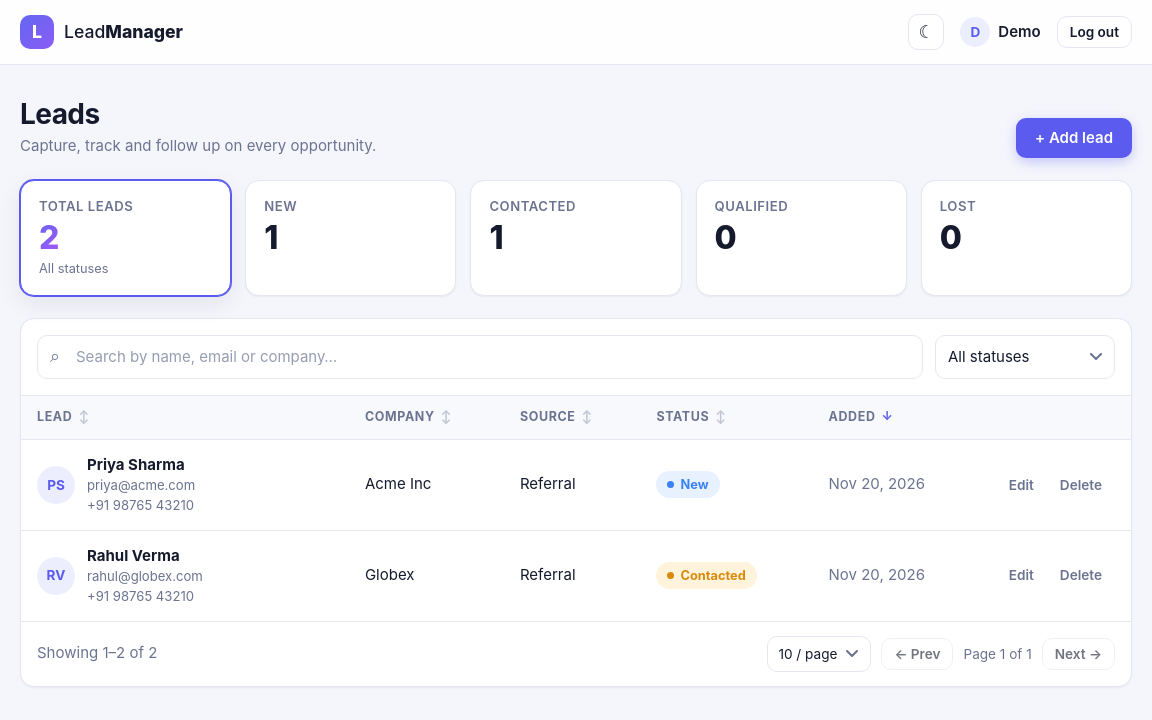
Test: LeadsPage › asks for confirmation before deleting, and cancelling deletes nothing
The width and height of the screenshot is (1152, 720).
Expected: the text "Priya Sharma" is shown, [87,454,195,476]
Click the button with aria-label "Delete Priya Sharma" at (1081, 485), box [1047,469,1115,501]
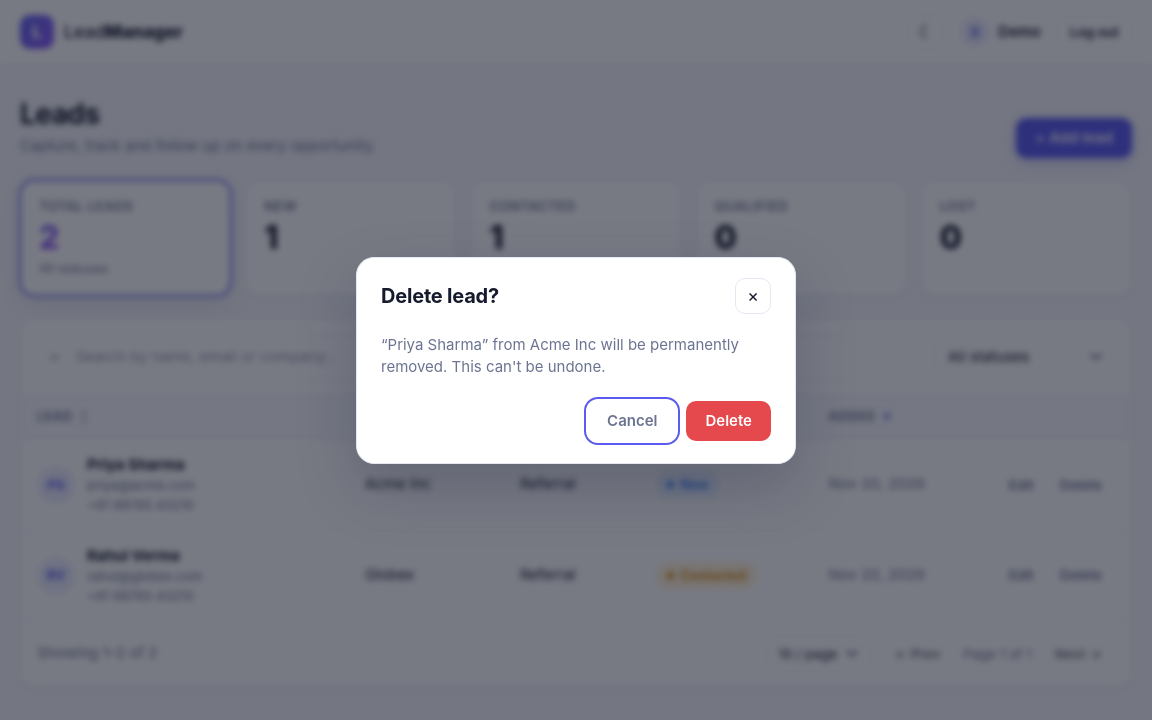
Expected: the dialog "Delete lead?" shows "Priya Sharma", [381,334,739,376]
Click the button "Cancel" at (632, 420), box [588,400,676,440]
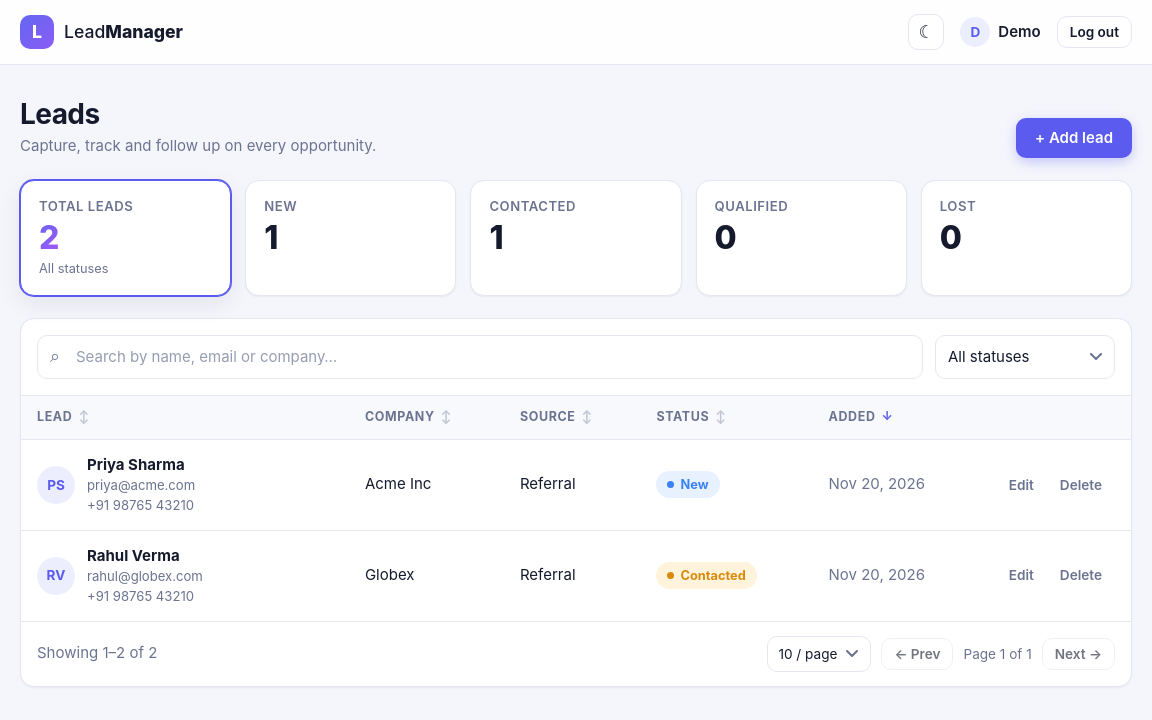
Expected: the dialog is gone
